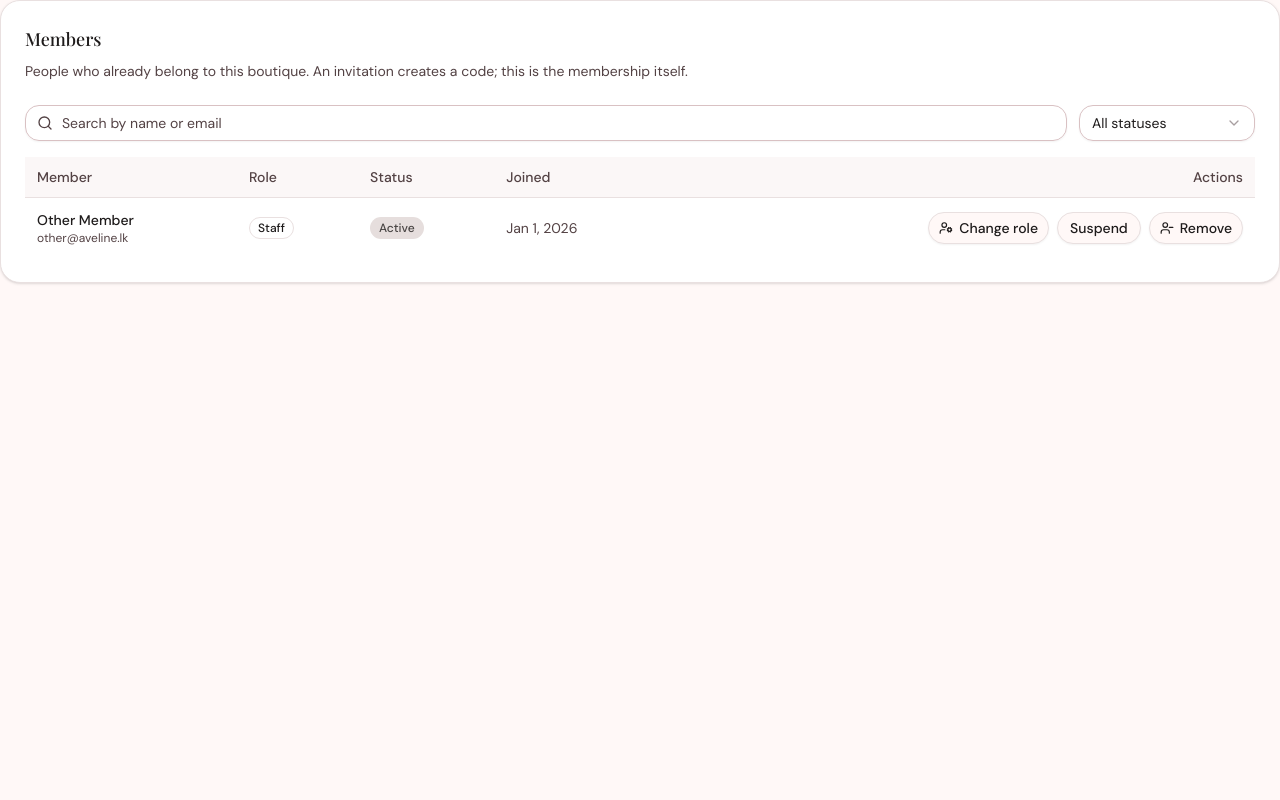
Test: MembersTab › renders the server’s 409 message when a role change is refused
Expected: the text "other@aveline.lk" is shown, [37,230,128,246]
Step 1. Click the button "Change role" → x=989, y=228, box [928,212,1049,244]
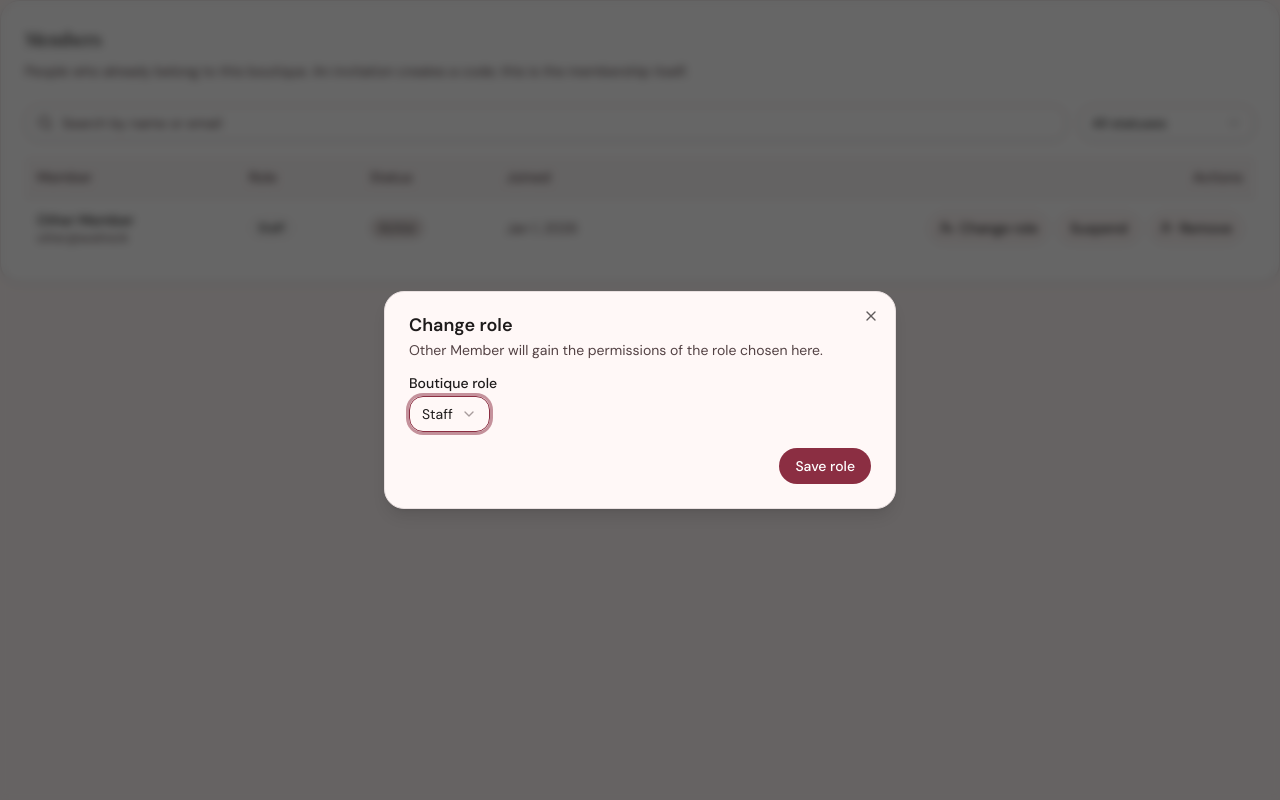
Step 2. Click the button "Save role" → x=825, y=466, box [779,448,871,484]
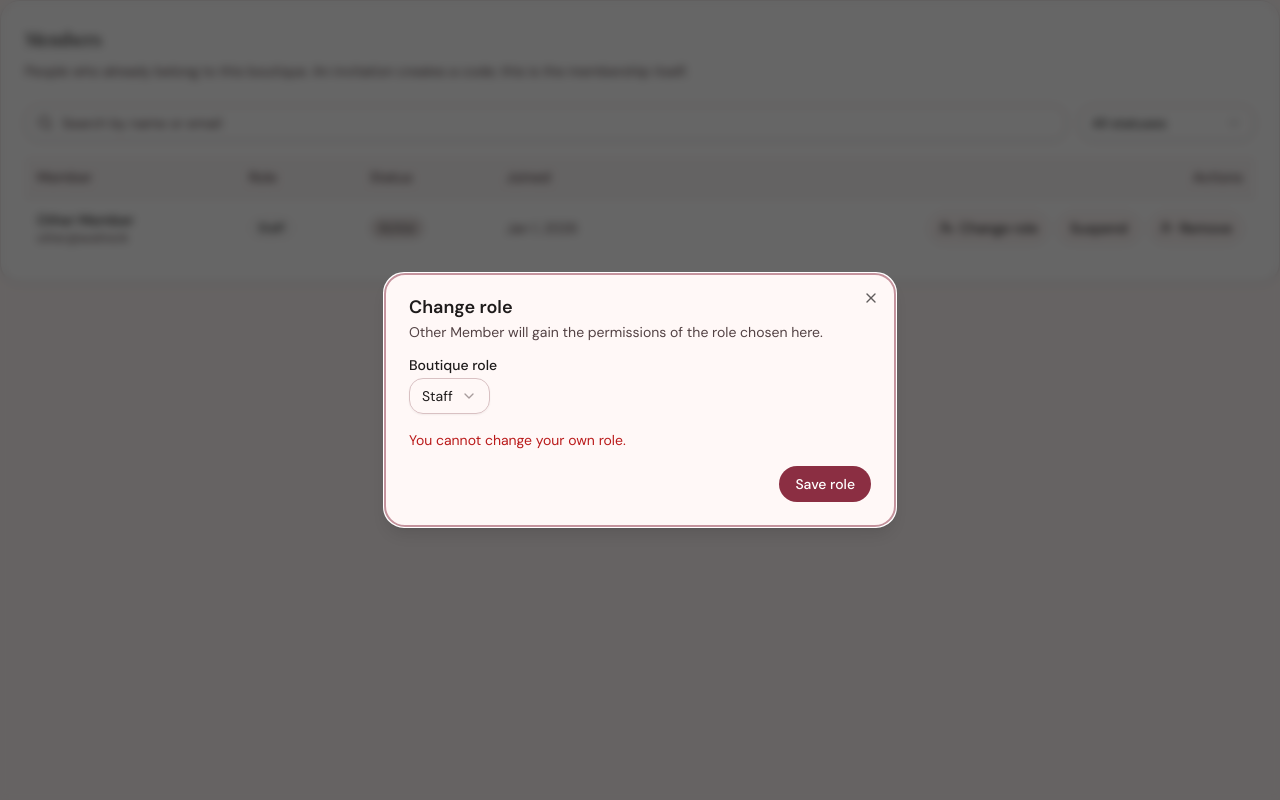
Now the text "You cannot change your own role." is shown, box [409,431,626,449]
